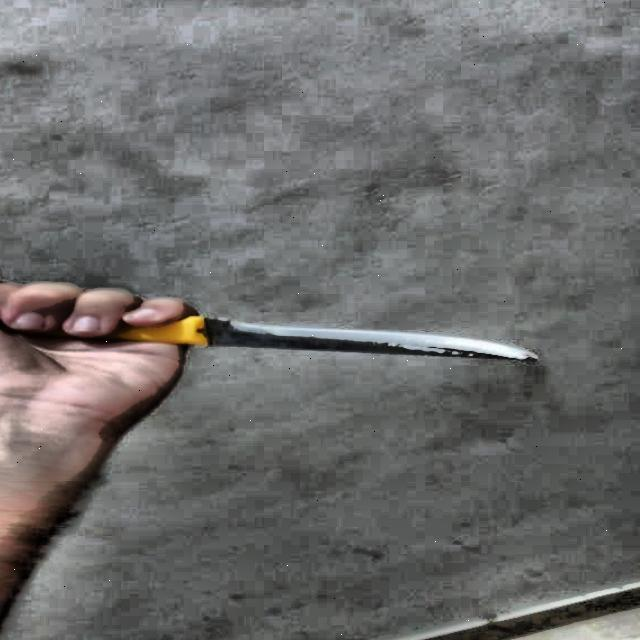knife: (57, 316, 537, 362)
